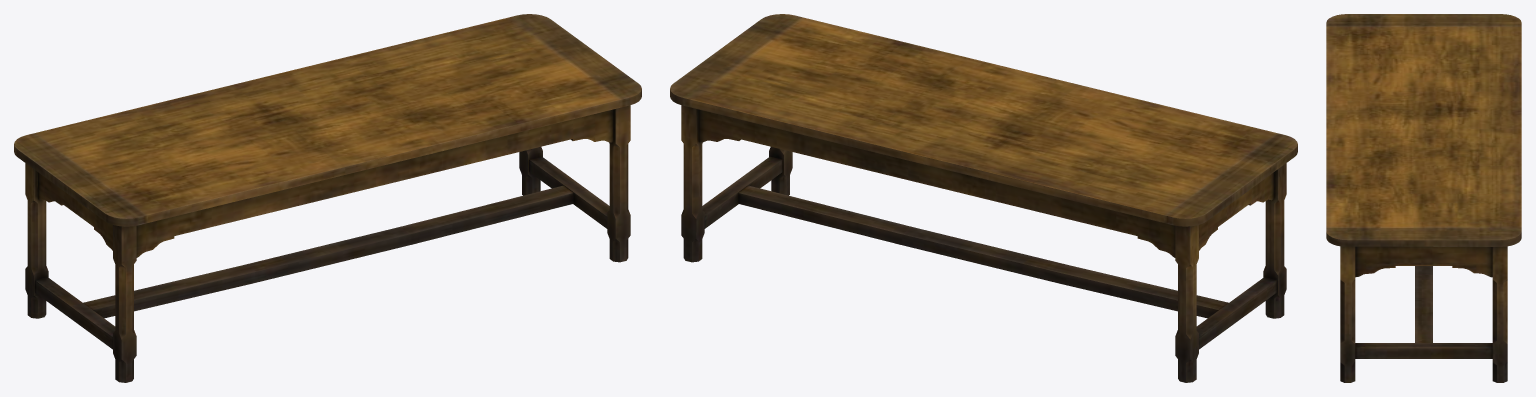
File: WoodenTable_01.glb
3 views of the same model, side by side, from view 1: azimuth 30°, elevation 25°; view 2: azimuth 150°, elevation 25°; view 3: azimuth 270°, elevation 25° (orthographic). The views are drawn at different scales.
Visible parts, largest first — view 1: WoodenTable_01; view 2: WoodenTable_01; view 3: WoodenTable_01.
Boxes of the visible parts, x1,y1,x2,y2 form: WoodenTable_01: [14, 14, 641, 382]; WoodenTable_01: [670, 14, 1297, 382]; WoodenTable_01: [1326, 14, 1521, 382].
Bounding box in the file's own units: 1.8 × 0.5488 × 0.6571.
Materials: 1 (1 with a texture image).
